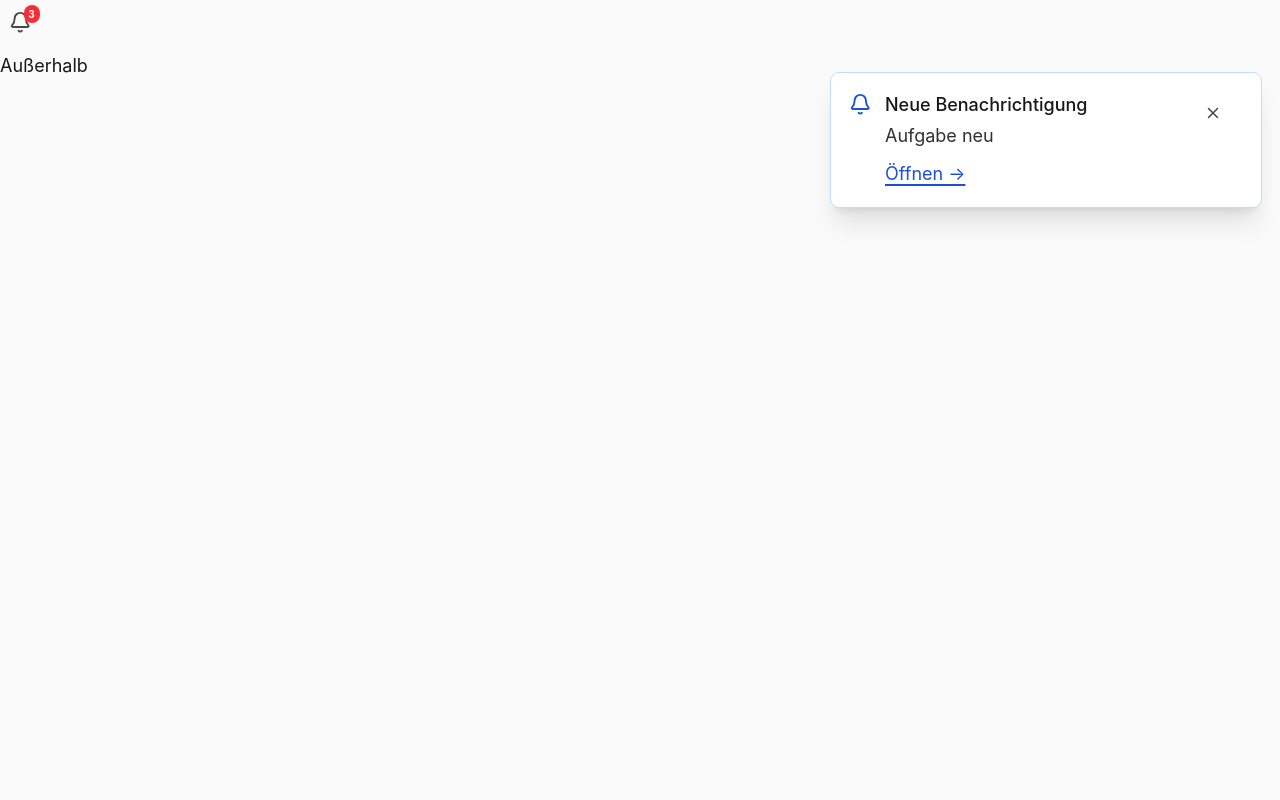
it: Hinweis und Dropdown › hält den Hinweis im Profilmodus offen und pausiert ihn bei Interaktion und offenem Dropdown
Expected: the text "Neue Benachrichtigung" is shown, [885, 94, 1088, 115]
What coordinates should you click on to do the following:
click the button named "ungelesene Benachrichtigungen"
I would click on:
 (22, 22)
Its box is [0, 0, 44, 44].
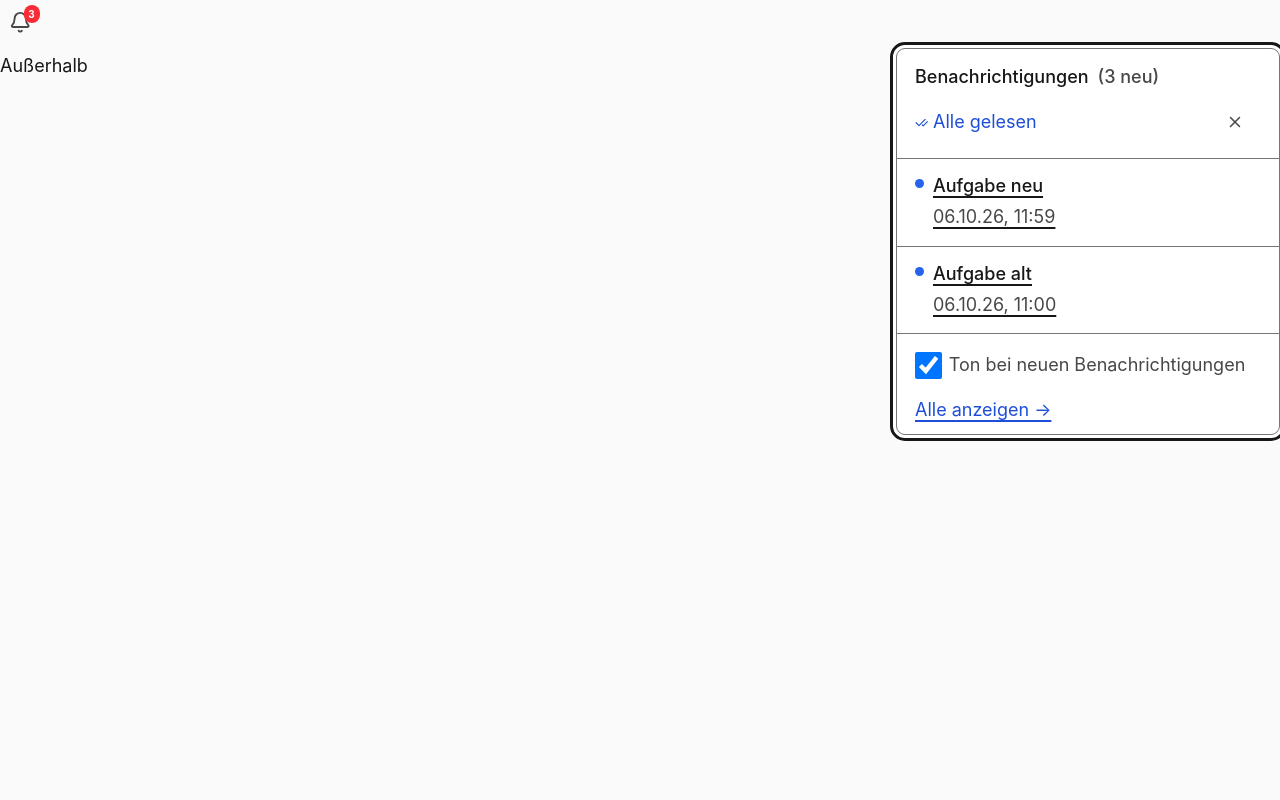
Expected: the text "Neue Benachrichtigung" is gone
